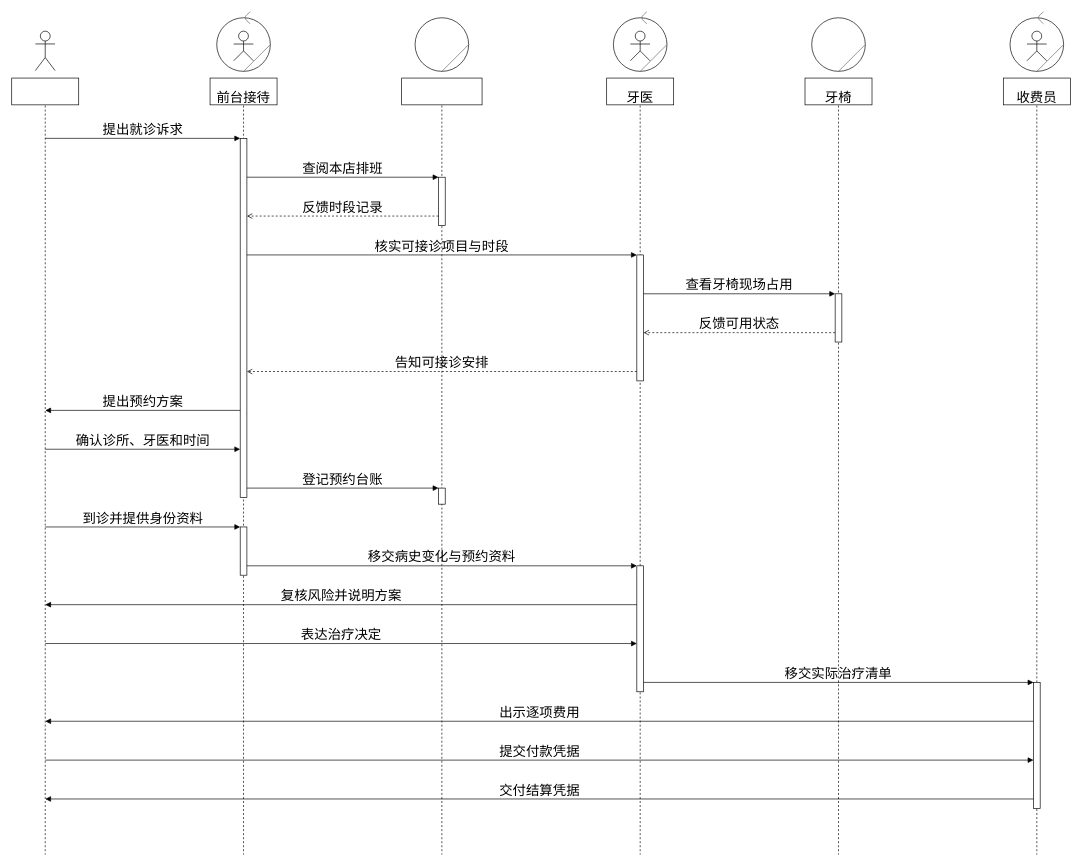
Some shapes in this 1082 by 867 pixel diagram are drawn without their labels. Each missing label, with the centre of its shape:
患者: the point at 45,91
本店排班表: the point at 441,91
